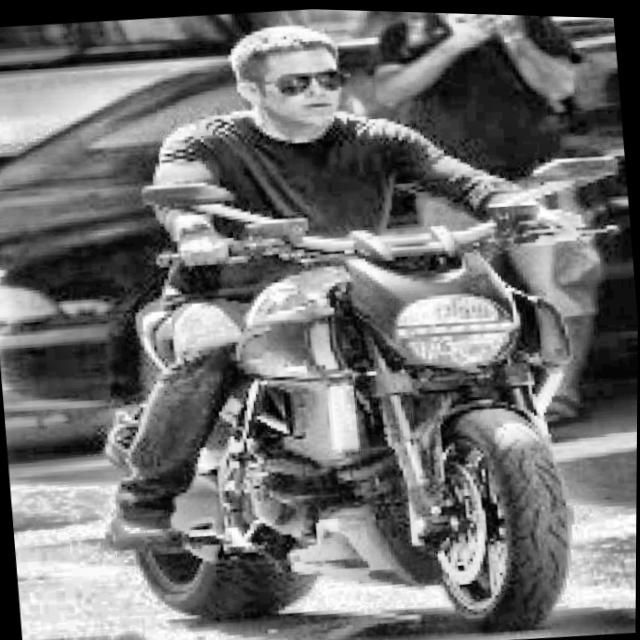motorcycle: (60, 119, 639, 640)
